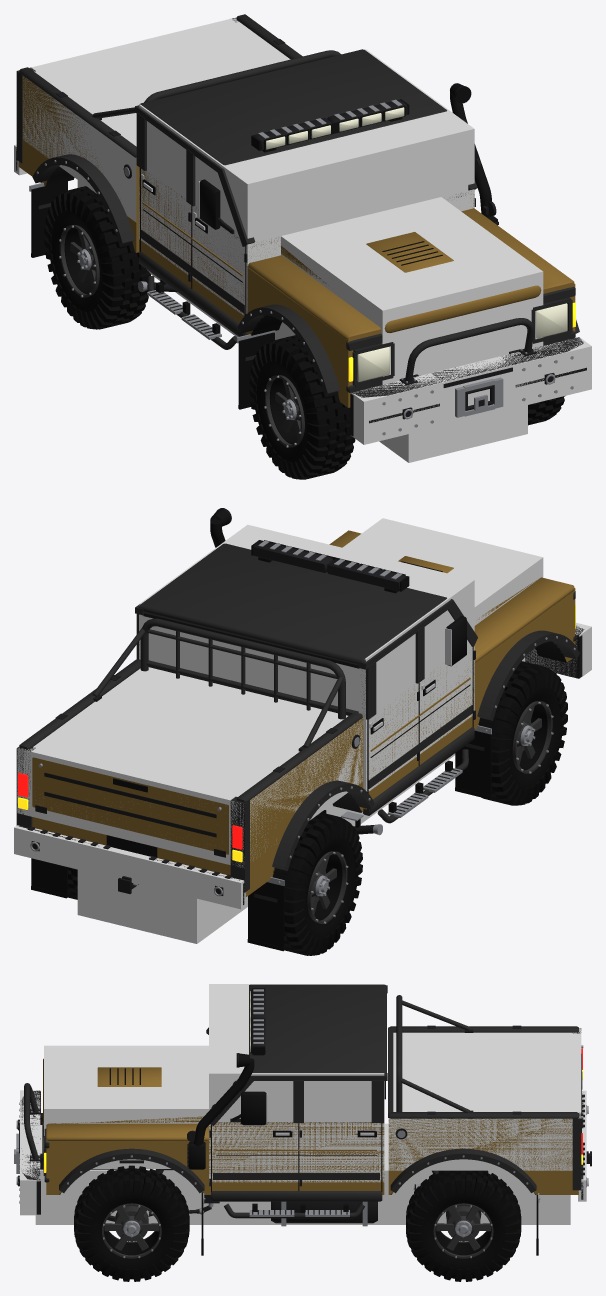
Rendered from Utility.fbx.
3 views of the same model, one above another, from view 1: azimuth 30°, elevation 25°; view 2: azimuth 150°, elevation 25°; view 3: azimuth 270°, elevation 25° (orthographic). The views are drawn at different scales.
Parts seen in each view (by area): view 1: COL_Cab, COL_Hood, Cab, COL_Bed, Fenders, COL_BumperF, Wheel_FR, Wheel_RR, Bed, Hood, Bumper_F, COL_Chassis (+10 smaller); view 2: COL_Bed, Bed, Cab, COL_Cab, Wheel_RR, Wheel_FR, Fenders, COL_Hood, COL_Chassis, COL_BumperR, HeadacheRack, MudFlaps (+7 smaller); view 3: COL_Bed, Cab, COL_Cab, Bed, COL_Hood, Wheel_FL, Wheel_RL, COL_Chassis, Fenders, Doors, Chassis, Hood (+8 smaller).
Boxes of the visible parts, x1,y1,x2,y2 form: COL_Cab: [139, 49, 474, 315]; COL_Hood: [281, 197, 543, 384]; Cab: [135, 49, 477, 336]; COL_Bed: [23, 17, 290, 222]; Fenders: [237, 208, 579, 407]; COL_BumperF: [351, 337, 591, 444]; Wheel_FR: [249, 335, 355, 479]; Wheel_RR: [44, 186, 150, 329]; Bed: [16, 14, 302, 252]; Hood: [281, 232, 575, 392]; Bumper_F: [350, 318, 586, 436]; COL_Chassis: [77, 180, 527, 462]; COL_Bed: [17, 667, 363, 868]; Bed: [16, 659, 374, 897]; Cab: [135, 543, 477, 815]; COL_Cab: [139, 524, 474, 791]; Wheel_RR: [273, 812, 362, 955]; Wheel_FR: [478, 661, 567, 805]; Fenders: [329, 530, 579, 729]; COL_Hood: [342, 518, 543, 625]; COL_Chassis: [77, 657, 524, 943]; COL_BumperR: [14, 825, 246, 909]; HeadacheRack: [92, 618, 345, 751]; MudFlaps: [31, 725, 491, 951]; COL_Bed: [388, 1028, 581, 1170]; Cab: [206, 984, 387, 1201]; COL_Cab: [209, 984, 384, 1182]; Bed: [388, 1025, 583, 1194]; COL_Hood: [44, 1045, 208, 1168]; Wheel_FL: [74, 1165, 189, 1281]; Wheel_RL: [406, 1170, 521, 1281]; COL_Chassis: [35, 1123, 570, 1224]; Fenders: [46, 1123, 208, 1194]; Doors: [209, 1091, 382, 1191]; Chassis: [33, 1113, 415, 1226]; Hood: [43, 1058, 203, 1182].
Size of what is drawn, in the model's own units: 2.22 by 2.35 by 5.4.
